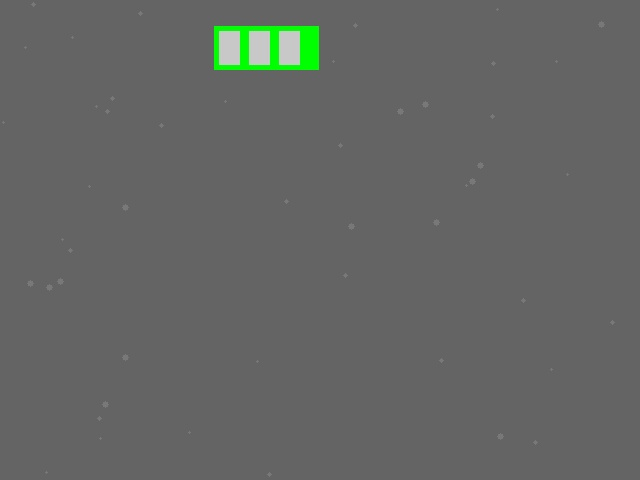bus: (214, 26, 318, 69)
